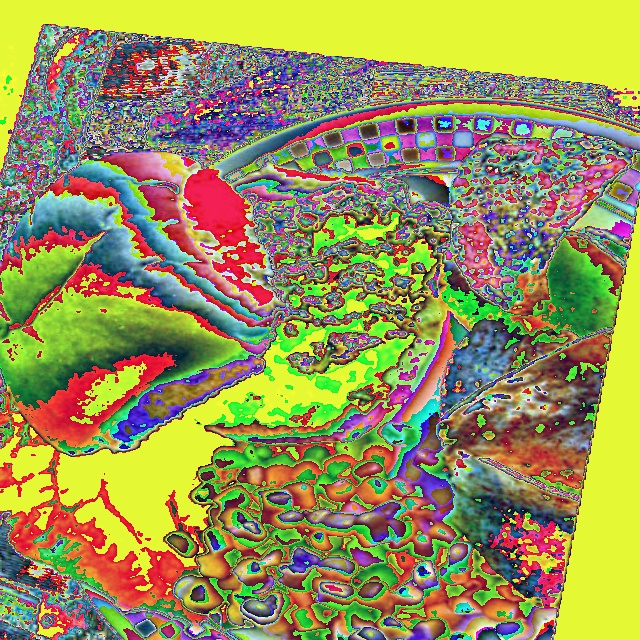background: (0, 137, 635, 639)
